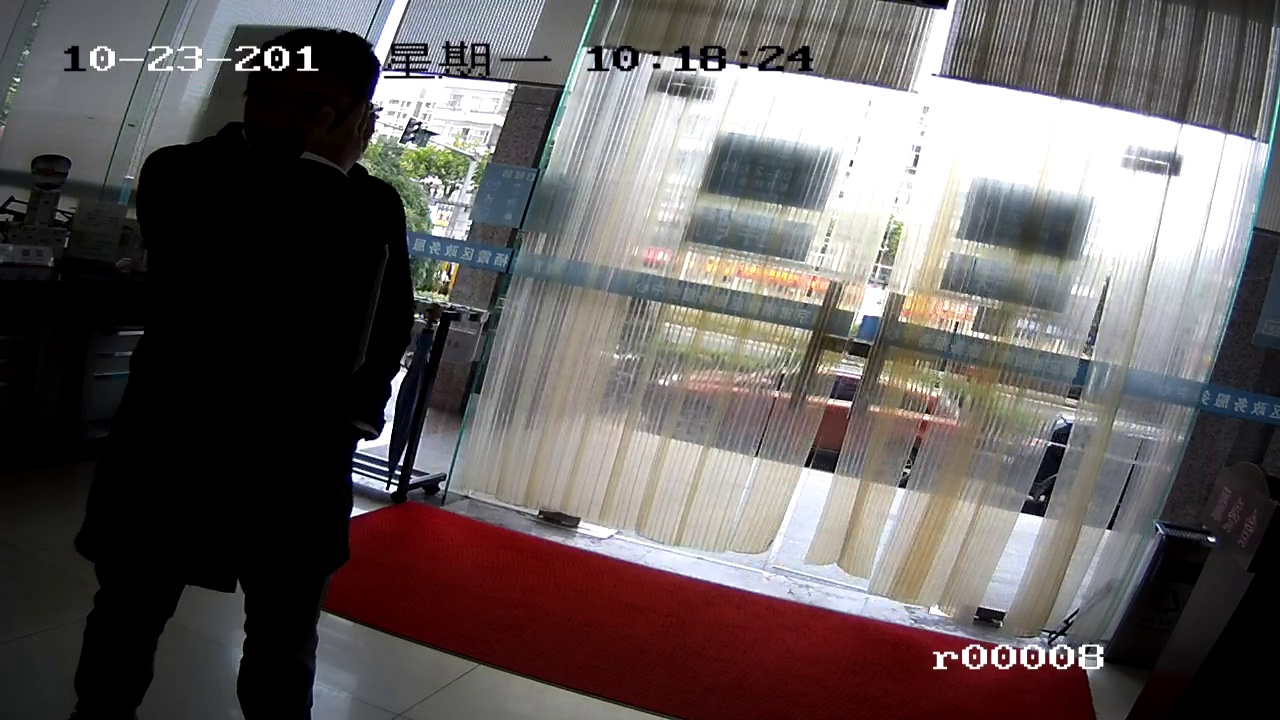person: (102, 40, 409, 678)
